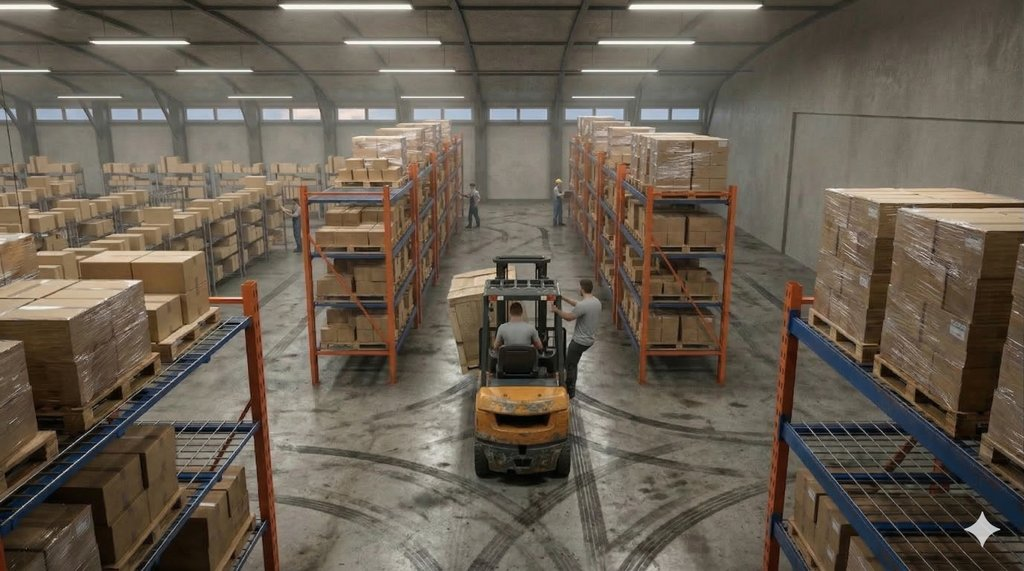empty_shelf: (785, 329, 1012, 565), (134, 400, 264, 495), (317, 166, 389, 211)
forklift: (475, 242, 580, 486)
pallet: (868, 350, 961, 425), (800, 299, 867, 358)
person: (556, 270, 611, 399), (495, 300, 546, 368), (540, 169, 574, 238), (458, 173, 490, 241)
